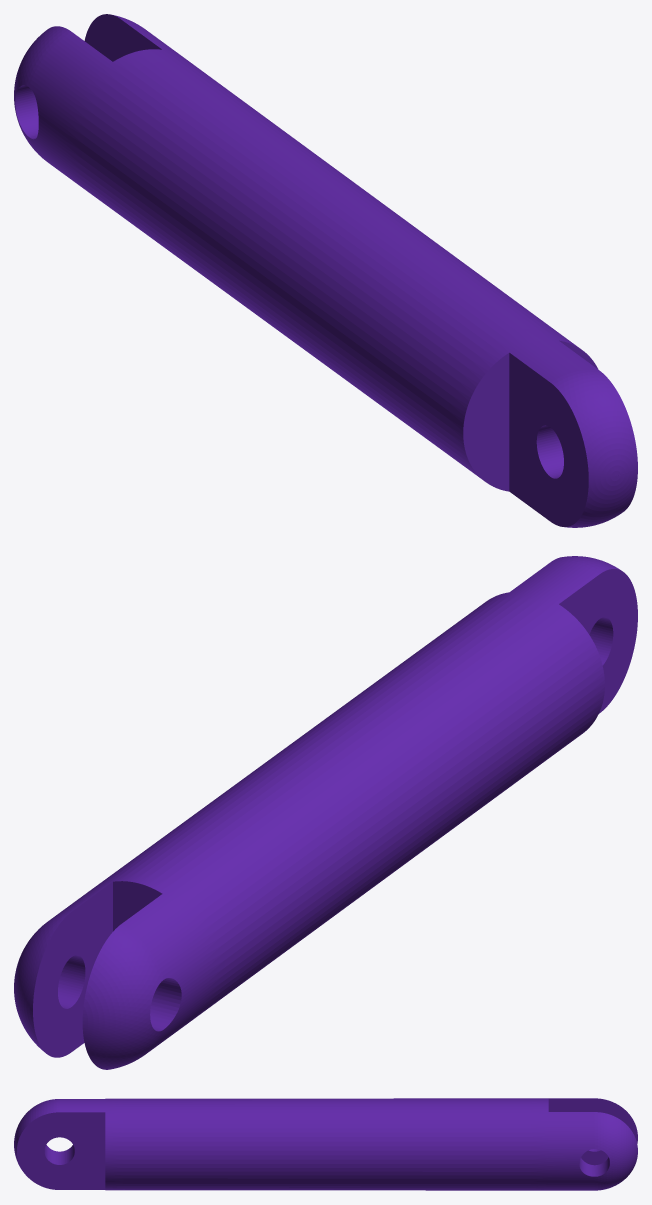
The picture shows the model from 3 angles, top to bottom: view 1: azimuth 30°, elevation 25°; view 2: azimuth 150°, elevation 25°; view 3: azimuth 270°, elevation 25°; orthographic projection. The views are drawn at different scales.
Parts seen in each view (by area): view 1: node; view 2: node; view 3: node.
Boxes of the visible parts, x1=… form: node: x1=14, y1=14, x2=637, y2=527; node: x1=14, y1=556, x2=637, y2=1069; node: x1=14, y1=1098, x2=637, y2=1190.
Size of the model in its own units: 0.0625 by 0.0625 by 0.4225.
